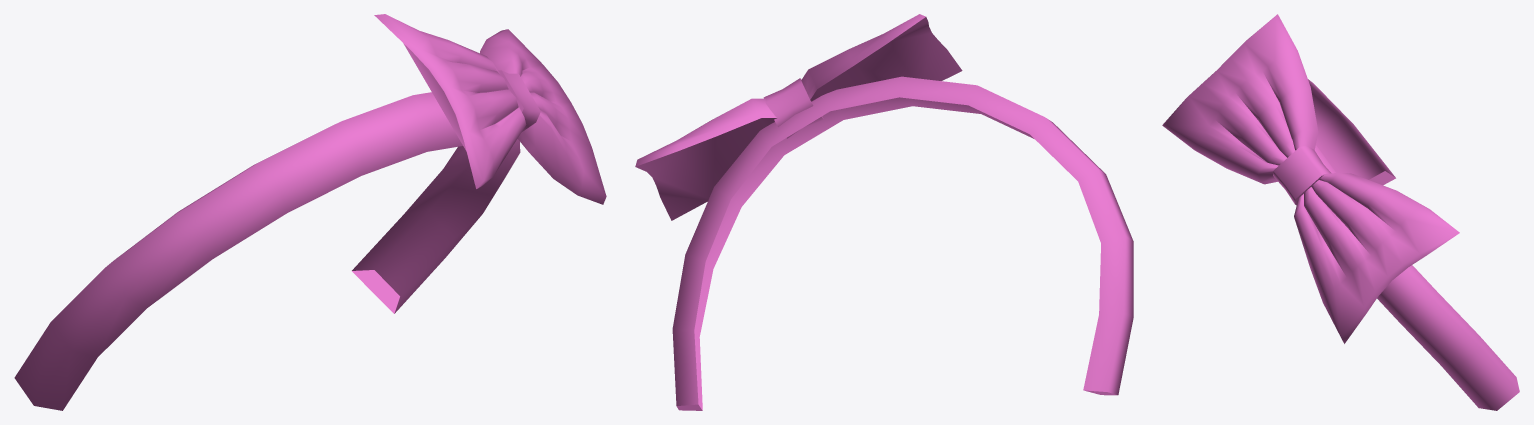
Rendered from Bow.fbx.
3 views of the same model, side by side, from view 1: azimuth 30°, elevation 25°; view 2: azimuth 150°, elevation 25°; view 3: azimuth 270°, elevation 25° (orthographic). The views are drawn at different scales.
Parts seen in each view (by area): view 1: Bow; view 2: Bow; view 3: Bow.
Part boxes in pixels (bbox=[...]): Bow: bbox=[14, 14, 606, 410]; Bow: bbox=[635, 14, 1133, 410]; Bow: bbox=[1162, 14, 1519, 410].
Bounding box in the file's own units: 2.82 × 2.05 × 1.97.
